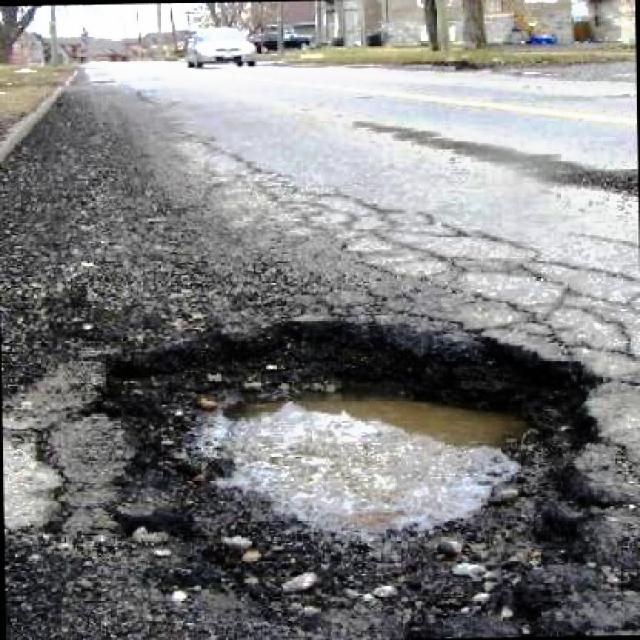pothole: (0, 304, 621, 640)
